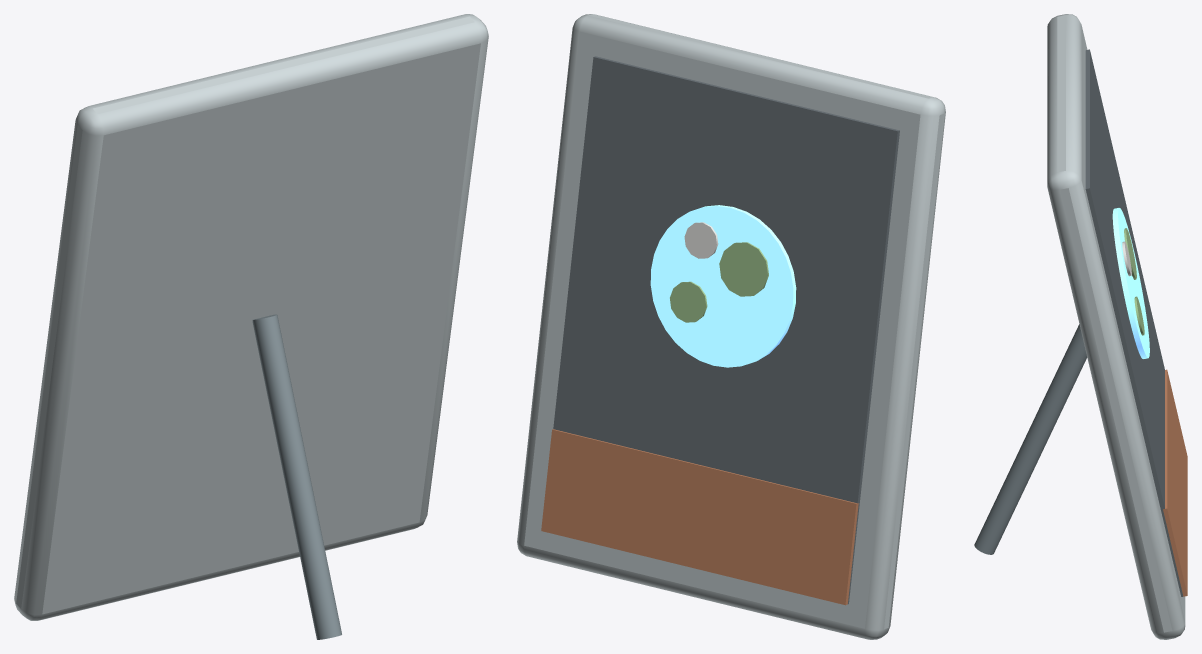
The model's file is photo_frame.glb.
The picture shows the model from 3 angles, left to right: view 1: azimuth 30°, elevation 25°; view 2: azimuth 150°, elevation 25°; view 3: azimuth 270°, elevation 25°; orthographic projection. The views are drawn at different scales.
Visible parts, largest first — view 1: frame_alloy, leg_dark_alloy; view 2: photo_graphite, frame_alloy, horizon_regolith, earth_earth_blue, land_leaf_light, cloud_white_painted; view 3: frame_alloy, photo_graphite, leg_dark_alloy, horizon_regolith, earth_earth_blue, land_leaf_light.
Boxes of the visible parts, <box> form: frame_alloy: <box>14,14,488,620</box>; leg_dark_alloy: <box>252,314,341,639</box>; photo_graphite: <box>553,56,899,604</box>; frame_alloy: <box>517,14,945,639</box>; horizon_regolith: <box>541,429,858,605</box>; earth_earth_blue: <box>650,205,796,367</box>; land_leaf_light: <box>670,242,768,322</box>; cloud_white_painted: <box>684,222,718,258</box>; frame_alloy: <box>1047,14,1185,639</box>; photo_graphite: <box>1085,49,1183,596</box>; leg_dark_alloy: <box>974,324,1087,554</box>; horizon_regolith: <box>1163,369,1187,596</box>; earth_earth_blue: <box>1112,208,1149,358</box>; land_leaf_light: <box>1124,228,1144,335</box>.
Bounding box in the file's own units: 0.18 × 0.2356 × 0.0974.
